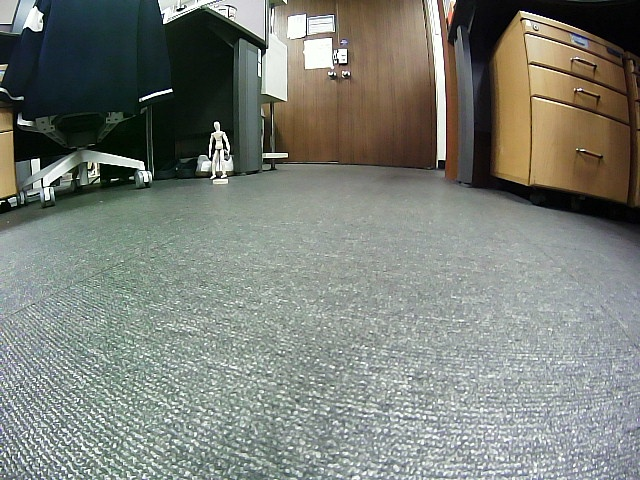person: (209, 120, 229, 179)
